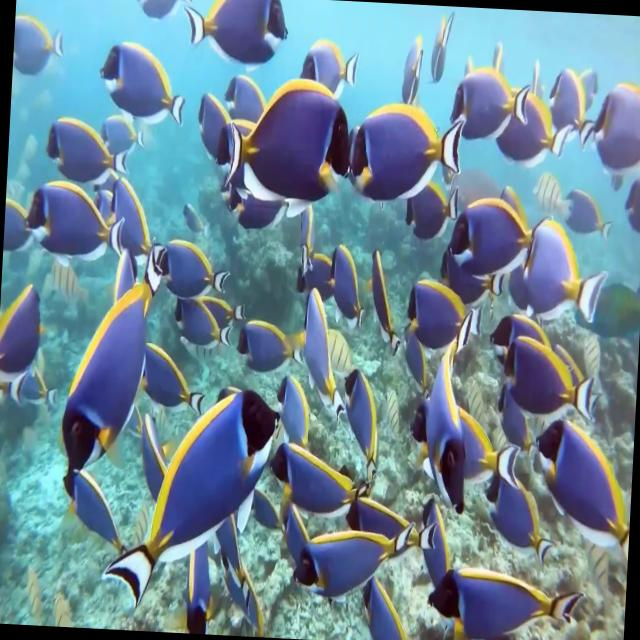fish: (100, 368, 294, 622), (58, 233, 170, 494), (222, 70, 354, 214), (284, 496, 428, 614), (532, 409, 634, 563), (432, 541, 587, 640), (348, 86, 468, 212), (517, 215, 624, 332), (418, 329, 484, 510), (32, 168, 136, 274), (88, 30, 192, 134), (495, 328, 593, 436), (448, 182, 544, 284), (51, 452, 136, 556), (445, 51, 535, 145), (0, 269, 57, 415), (187, 0, 299, 70), (489, 453, 560, 563), (498, 73, 580, 168), (400, 252, 485, 342), (270, 423, 354, 508), (336, 345, 394, 463), (294, 285, 352, 400), (48, 106, 125, 192), (550, 52, 606, 162), (345, 464, 430, 536), (135, 320, 204, 408), (586, 54, 640, 165), (404, 152, 466, 240), (158, 226, 234, 296), (353, 569, 426, 640), (368, 225, 408, 354), (168, 286, 231, 366), (234, 301, 306, 367), (298, 31, 368, 98), (12, 6, 70, 84), (418, 5, 466, 89), (569, 166, 619, 246), (420, 491, 460, 588), (392, 35, 432, 111), (326, 242, 361, 323), (527, 158, 574, 217), (288, 236, 336, 292), (2, 178, 29, 266), (621, 162, 640, 248), (131, 0, 192, 18)
